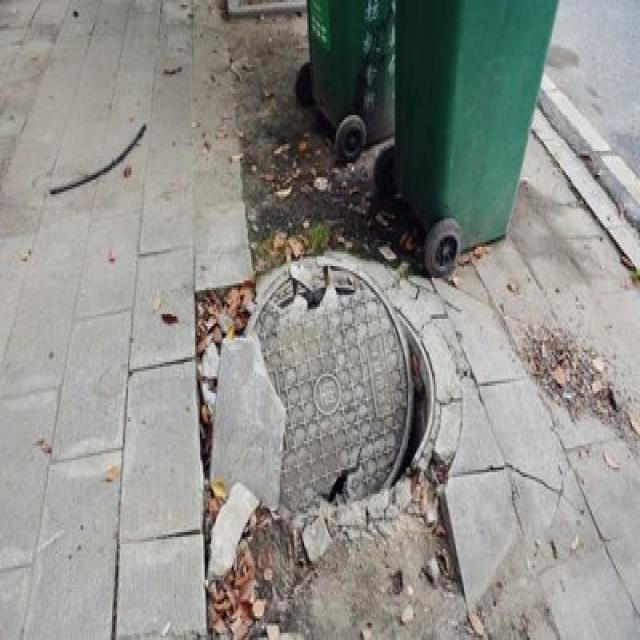manhole: (216, 254, 440, 503)
